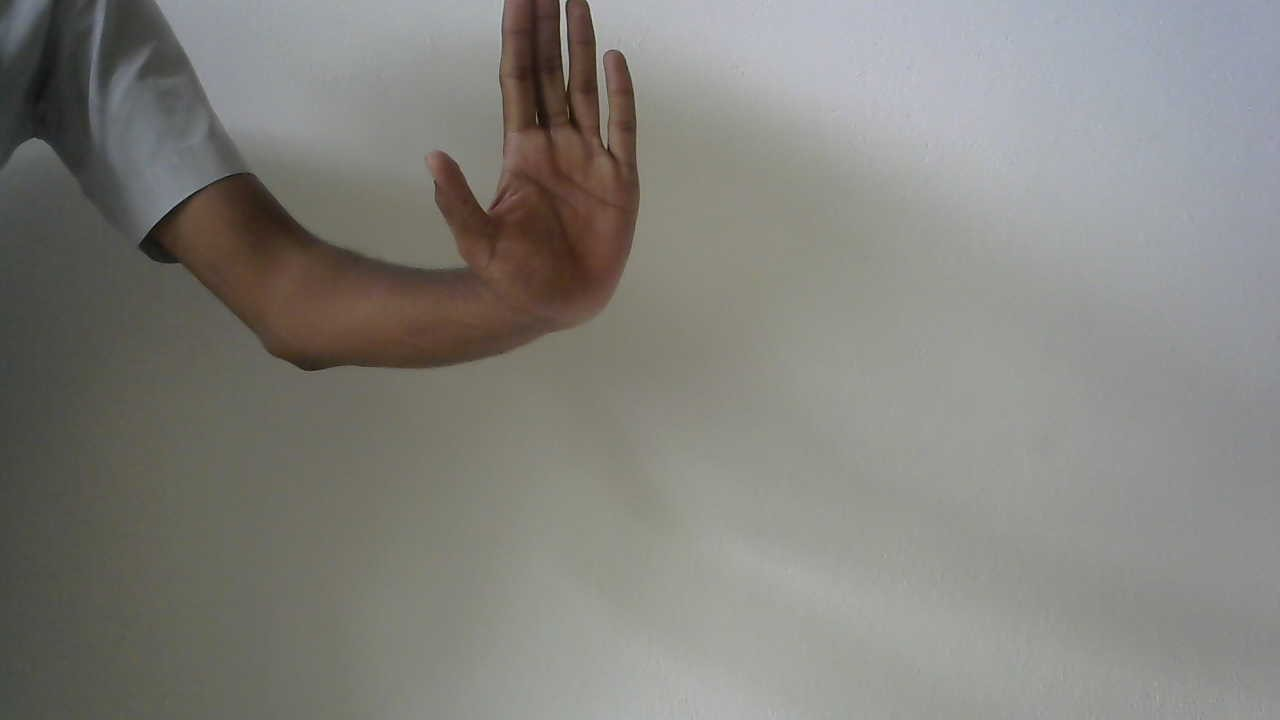hello: (413, 10, 656, 337)
